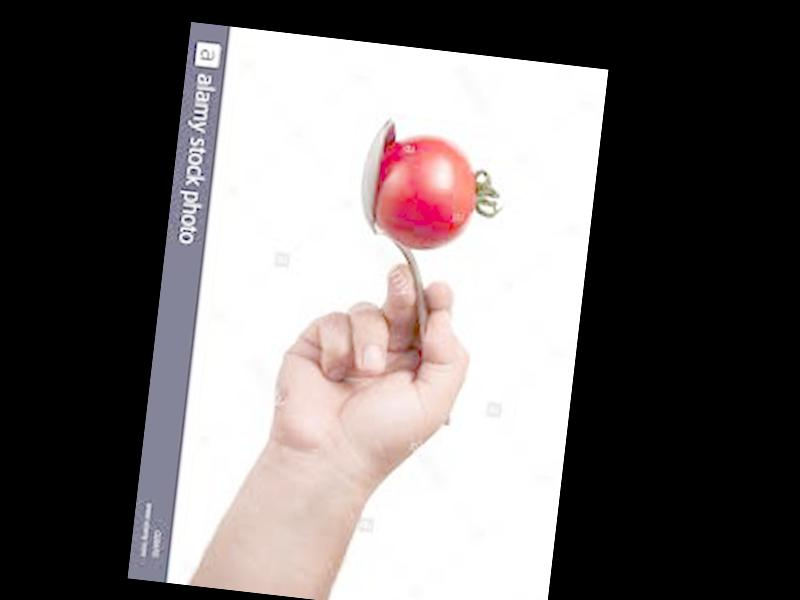Tomato: (372, 132, 482, 256)
